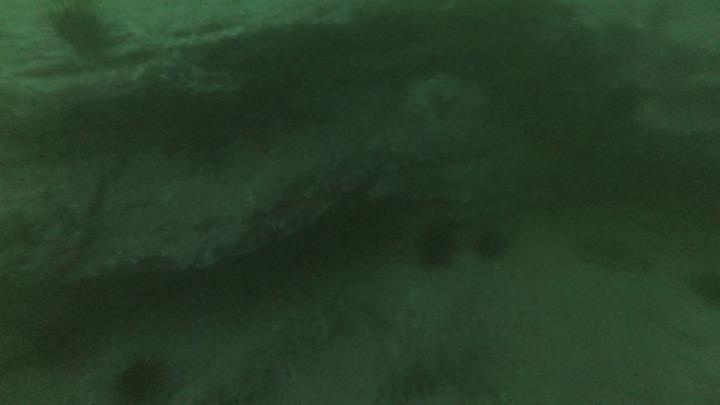echinus: (47, 2, 110, 57), (112, 353, 171, 404), (413, 218, 461, 271), (472, 224, 512, 263)
